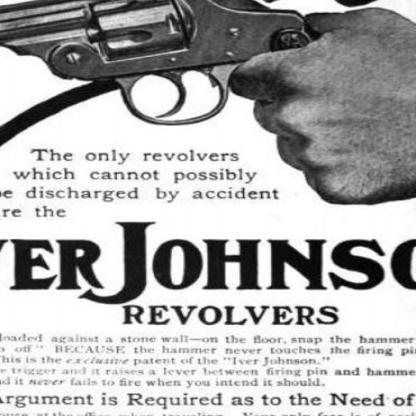gun: (0, 0, 316, 126)
